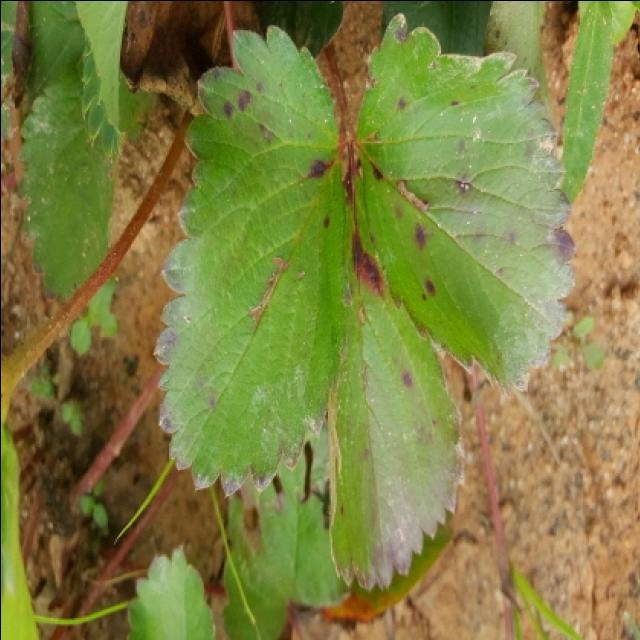Leaf Spot: (151, 24, 349, 499), (349, 11, 575, 394), (327, 217, 463, 593)
